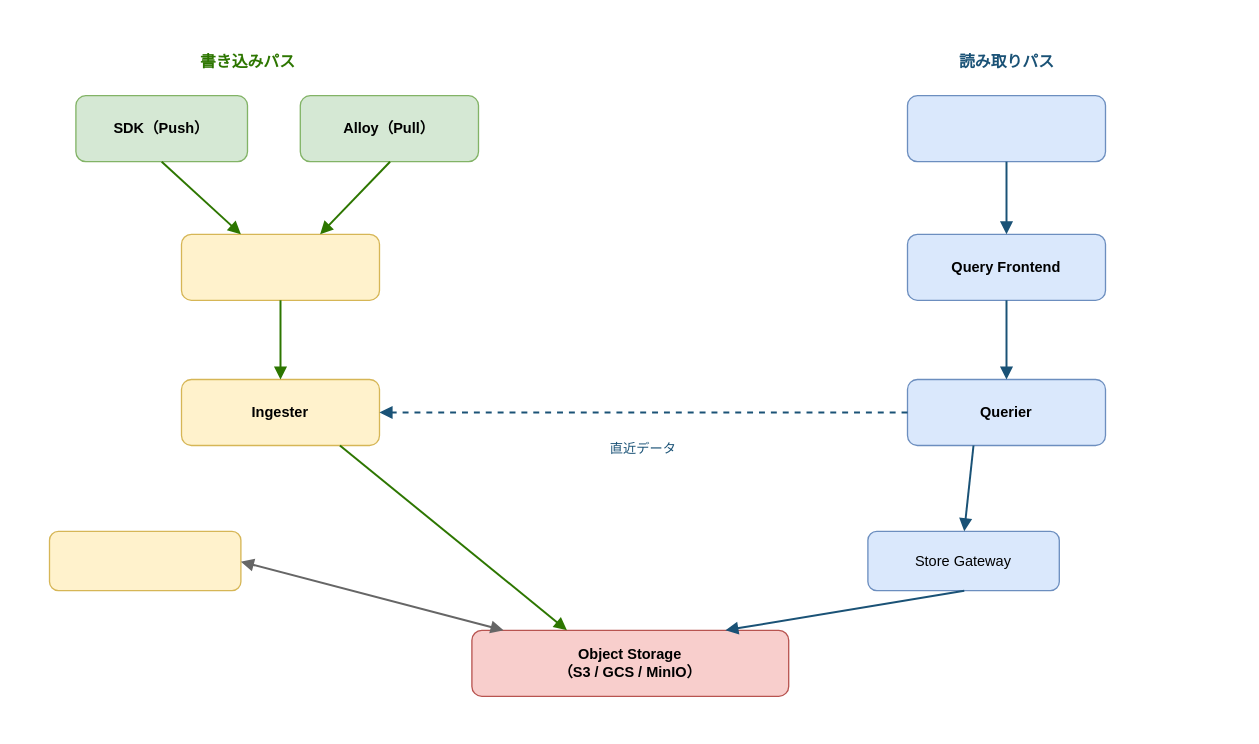
Some shapes in this 1259 by 744 pixel diagram are drawn without their labels. Here are the shapes that lost their labels. From the top down, the box of each, then its label:
(906, 94, 1106, 162): Grafana / UI
(180, 233, 380, 300): Distributor
(48, 530, 241, 591): Compactor
